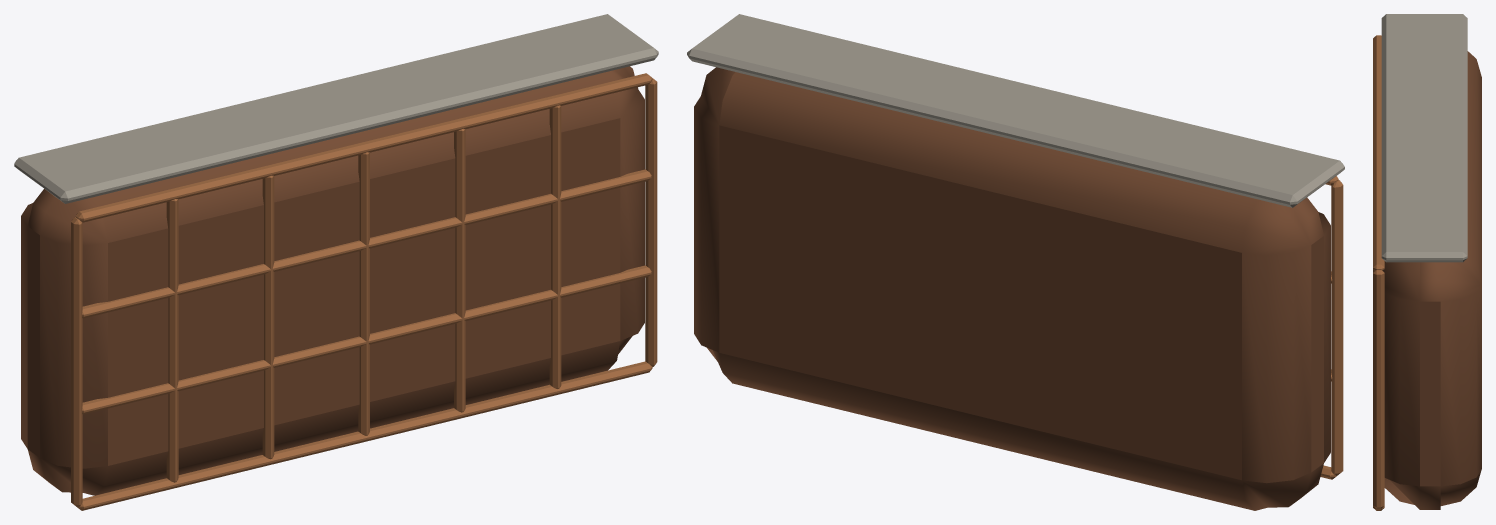
The model's file is pigeonholes.glb.
3 renders of one model, left to right at view 1: azimuth 30°, elevation 25°; view 2: azimuth 150°, elevation 25°; view 3: azimuth 270°, elevation 25°, orthographic. The views are drawn at different scales.
Parts seen in each view (by area): view 1: body; view 2: body; view 3: body.
Part boxes in pixels (box(x1,y1,x2,y2)): body: box(14, 14, 658, 510); body: box(687, 14, 1344, 510); body: box(1373, 14, 1481, 510).
Size of the model in its own units: 2 by 1.04 by 0.38.
